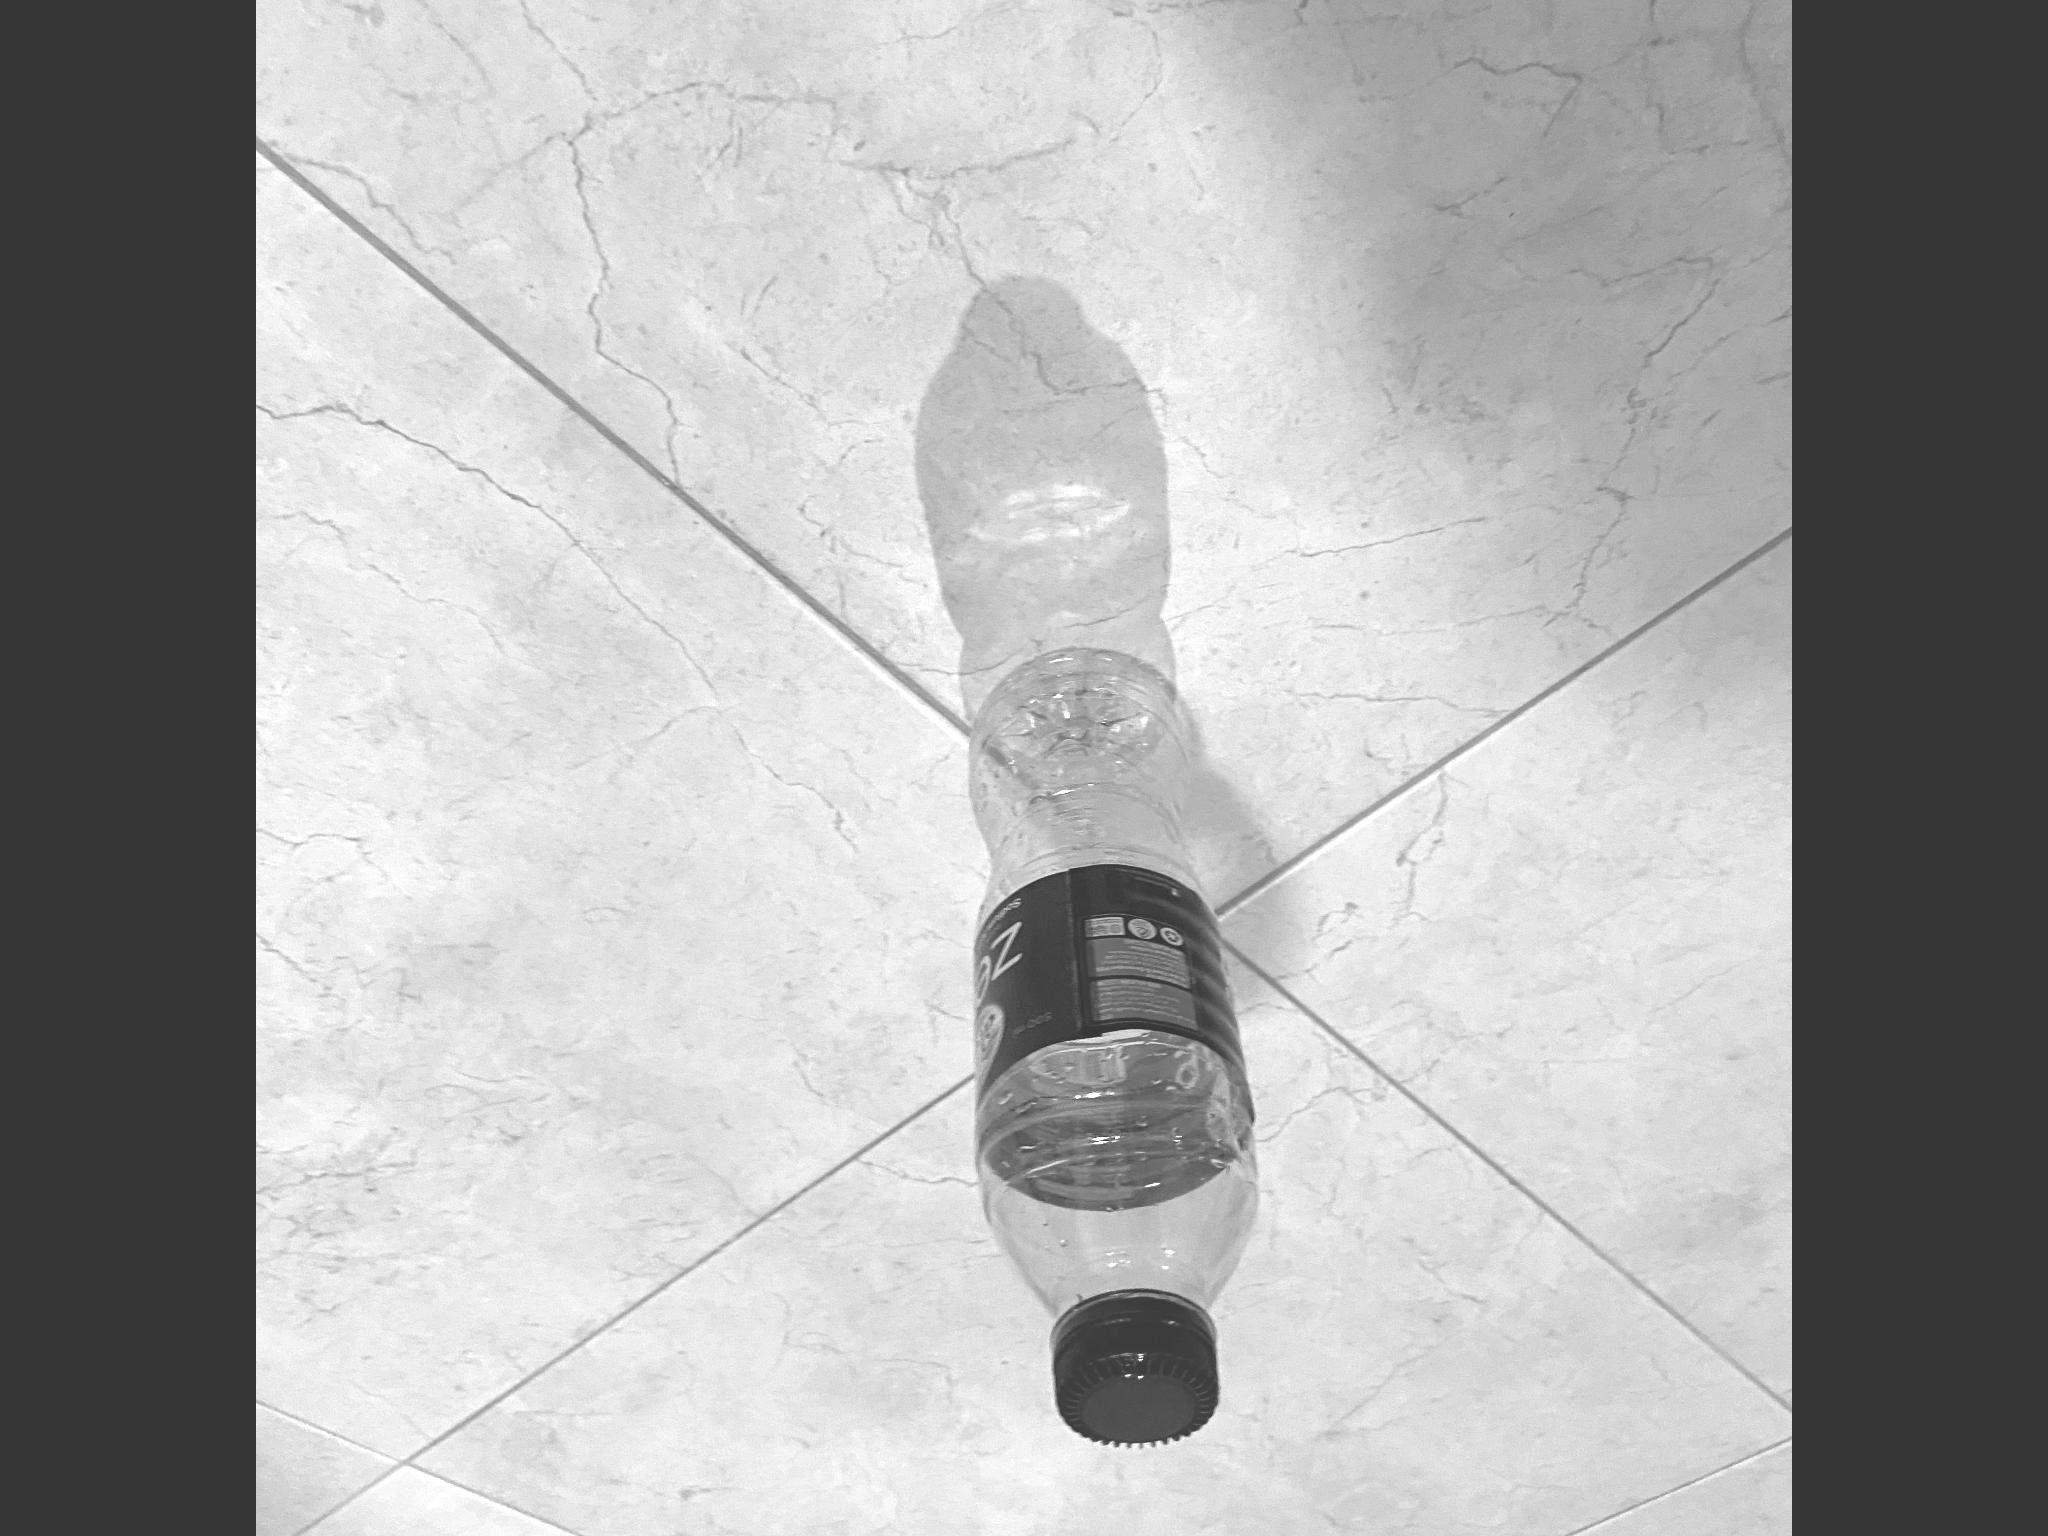bottle: (930, 609, 1290, 1461)
